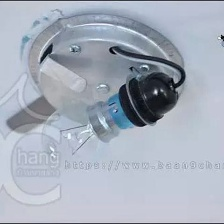light_bulb: (35, 91, 139, 171)
